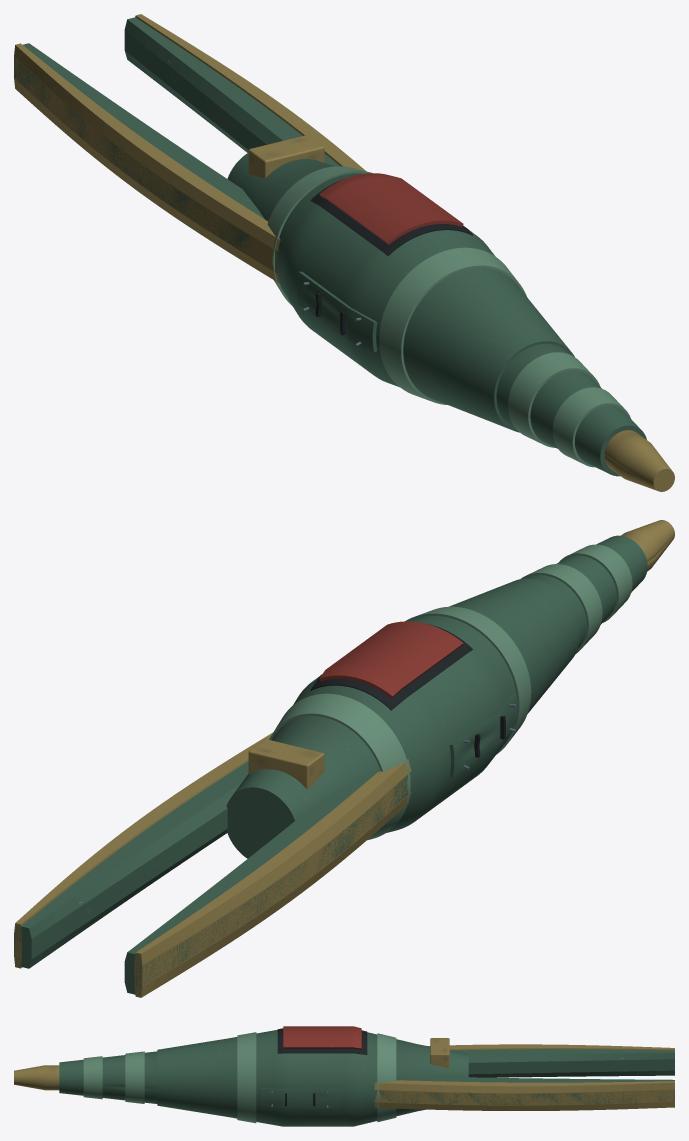
3 renders of one model, top to bottom at view 1: azimuth 30°, elevation 25°; view 2: azimuth 150°, elevation 25°; view 3: azimuth 270°, elevation 25°, orthographic. The views are drawn at different scales.
Visible parts, largest first — view 1: Rigellian Temporal Stasis green core, Rigellian Temporal Stasis gold rail 0, Rigellian Temporal Stasis rear prong 1, Rigellian Temporal Stasis forward neck, Rigellian Temporal Stasis rear prong 0, Rigellian Temporal Stasis red centre insert, Rigellian Temporal Stasis pale band 2, Rigellian Temporal Stasis gold rail 1, Rigellian Temporal Stasis gold forward fitting, Rigellian Temporal Stasis pale band 1, Rigellian Temporal Stasis service cover 1, Rigellian Temporal Stasis pale band 0 (+3 smaller); view 2: Rigellian Temporal Stasis green core, Rigellian Temporal Stasis gold rail 0, Rigellian Temporal Stasis rear prong 1, Rigellian Temporal Stasis rear prong 0, Rigellian Temporal Stasis red centre insert, Rigellian Temporal Stasis pale band 3, Rigellian Temporal Stasis gold rail 1, Rigellian Temporal Stasis forward neck, Rigellian Temporal Stasis pale band 2, Rigellian Temporal Stasis gold fork base, Rigellian Temporal Stasis service cover 1, Rigellian Temporal Stasis pale band 1 (+3 smaller); view 3: Rigellian Temporal Stasis green core, Rigellian Temporal Stasis gold rail 1, Rigellian Temporal Stasis rear prong 0, Rigellian Temporal Stasis rear prong 1, Rigellian Temporal Stasis forward neck, Rigellian Temporal Stasis red centre insert, Rigellian Temporal Stasis pale band 2, Rigellian Temporal Stasis service cover 0, Rigellian Temporal Stasis pale band 3, Rigellian Temporal Stasis gold rail 0, Rigellian Temporal Stasis pale band 1, Rigellian Temporal Stasis gold forward fitting (+3 smaller).
Part boxes in pixels (left/top/right/bottom): Rigellian Temporal Stasis green core: left=227, top=152, right=574, bottom=432; Rigellian Temporal Stasis gold rail 0: left=14, top=43, right=280, bottom=283; Rigellian Temporal Stasis rear prong 1: left=124, top=17, right=339, bottom=166; Rigellian Temporal Stasis forward neck: left=496, top=343, right=646, bottom=476; Rigellian Temporal Stasis rear prong 0: left=14, top=43, right=277, bottom=254; Rigellian Temporal Stasis red centre insert: left=319, top=173, right=463, bottom=244; Rigellian Temporal Stasis pale band 2: left=379, top=247, right=526, bottom=404; Rigellian Temporal Stasis gold rail 1: left=135, top=14, right=365, bottom=171; Rigellian Temporal Stasis gold forward fitting: left=604, top=430, right=674, bottom=491; Rigellian Temporal Stasis pale band 1: left=508, top=352, right=599, bottom=447; Rigellian Temporal Stasis service cover 1: left=297, top=271, right=377, bottom=352; Rigellian Temporal Stasis pale band 0: left=552, top=387, right=630, bottom=467; Rigellian Temporal Stasis green core: left=226, top=578, right=579, bottom=858; Rigellian Temporal Stasis gold rail 0: left=134, top=759, right=411, bottom=997; Rigellian Temporal Stasis rear prong 1: left=14, top=761, right=248, bottom=968; Rigellian Temporal Stasis rear prong 0: left=124, top=772, right=411, bottom=994; Rigellian Temporal Stasis red centre insert: left=319, top=621, right=463, bottom=698; Rigellian Temporal Stasis pale band 3: left=269, top=693, right=410, bottom=840; Rigellian Temporal Stasis gold rail 1: left=14, top=732, right=272, bottom=968; Rigellian Temporal Stasis forward neck: left=526, top=535, right=647, bottom=648; Rigellian Temporal Stasis pale band 2: left=405, top=606, right=531, bottom=754; Rigellian Temporal Stasis gold fork base: left=248, top=739, right=324, bottom=789; Rigellian Temporal Stasis service cover 1: left=449, top=694, right=517, bottom=777; Rigellian Temporal Stasis pale band 1: left=521, top=564, right=602, bottom=653; Rigellian Temporal Stasis green core: left=157, top=1030, right=468, bottom=1126; Rigellian Temporal Stasis gold rail 1: left=374, top=1080, right=674, bottom=1110; Rigellian Temporal Stasis rear prong 0: left=451, top=1049, right=674, bottom=1077; Rigellian Temporal Stasis rear prong 1: left=375, top=1077, right=674, bottom=1104; Rigellian Temporal Stasis forward neck: left=59, top=1051, right=157, bottom=1103; Rigellian Temporal Stasis red centre insert: left=283, top=1026, right=361, bottom=1049; Rigellian Temporal Stasis pale band 2: left=237, top=1032, right=256, bottom=1123; Rigellian Temporal Stasis service cover 0: left=261, top=1088, right=339, bottom=1108; Rigellian Temporal Stasis pale band 3: left=377, top=1033, right=396, bottom=1122; Rigellian Temporal Stasis gold rail 0: left=428, top=1044, right=674, bottom=1050; Rigellian Temporal Stasis pale band 1: left=125, top=1051, right=144, bottom=1103; Rigellian Temporal Stasis gold forward fitting: left=14, top=1065, right=59, bottom=1090.
Size of the model in its own units: 0.3862 by 0.359 by 2.36.
6 materials, 3 textured.
